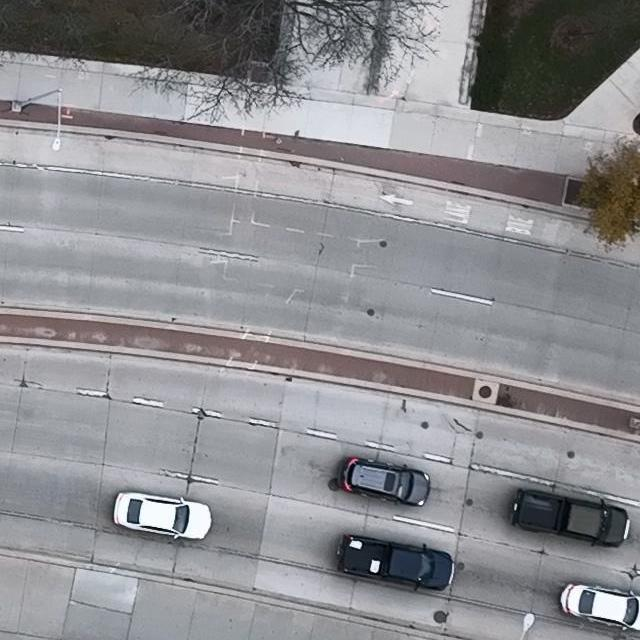car: (510, 489, 630, 548), (336, 534, 454, 593), (113, 491, 211, 540), (338, 458, 430, 505), (561, 583, 640, 631)
